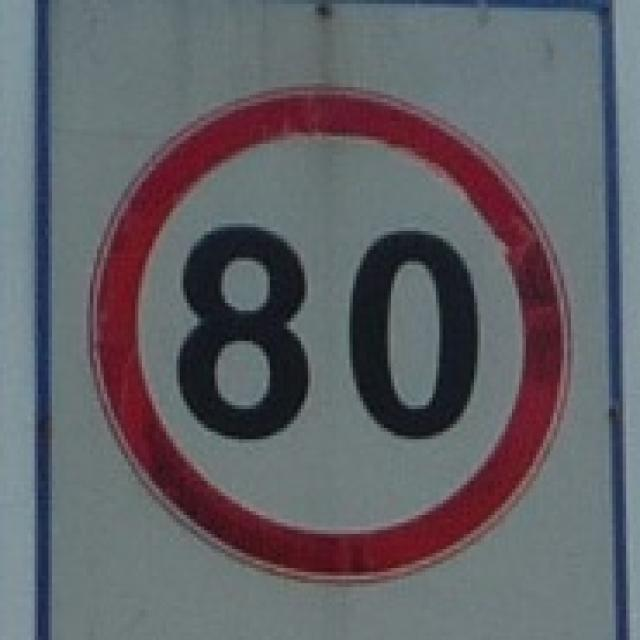Speed Limit -80-: (171, 223, 478, 445)
